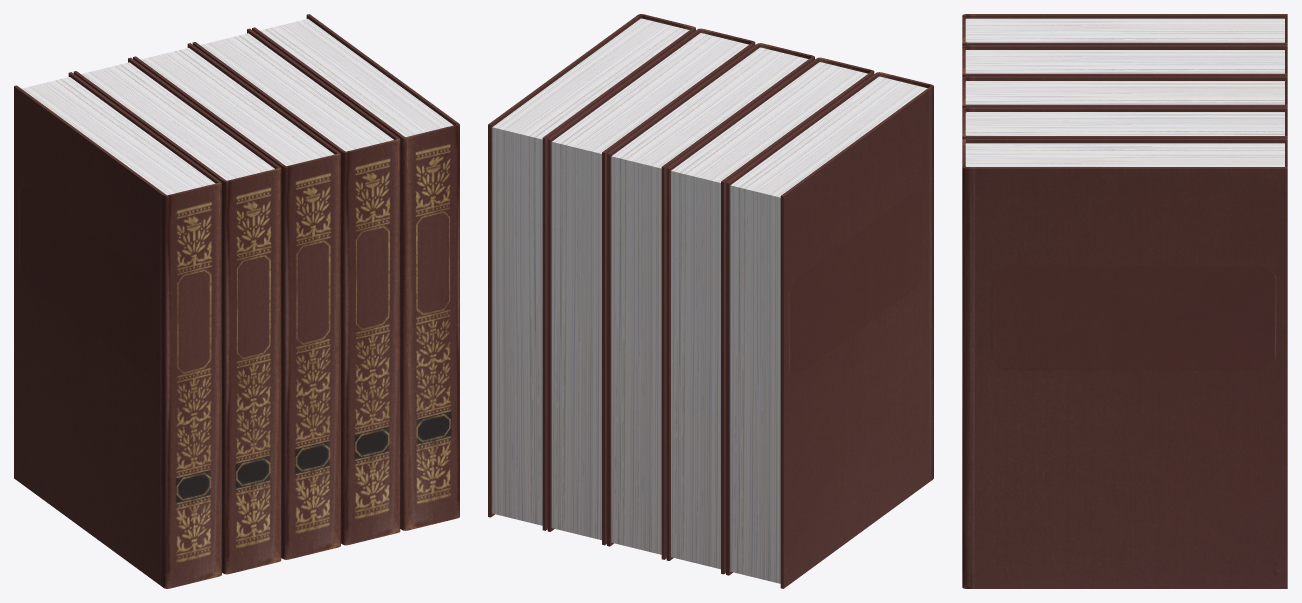
The model's file is RetroBooks01_4_5x.FBX.
3 renders of one model, left to right at view 1: azimuth 30°, elevation 25°; view 2: azimuth 150°, elevation 25°; view 3: azimuth 270°, elevation 25°, orthographic. The views are drawn at different scales.
Visible parts, largest first — view 1: RetroBooks01_4_5x; view 2: RetroBooks01_4_5x; view 3: RetroBooks01_4_5x.
Boxes of the visible parts, x1,y1,x2,y2 form: RetroBooks01_4_5x: [14, 14, 459, 588]; RetroBooks01_4_5x: [488, 14, 933, 588]; RetroBooks01_4_5x: [962, 14, 1287, 588].
Bounding box in the file's own units: 1.78 × 2.26 × 1.59.
